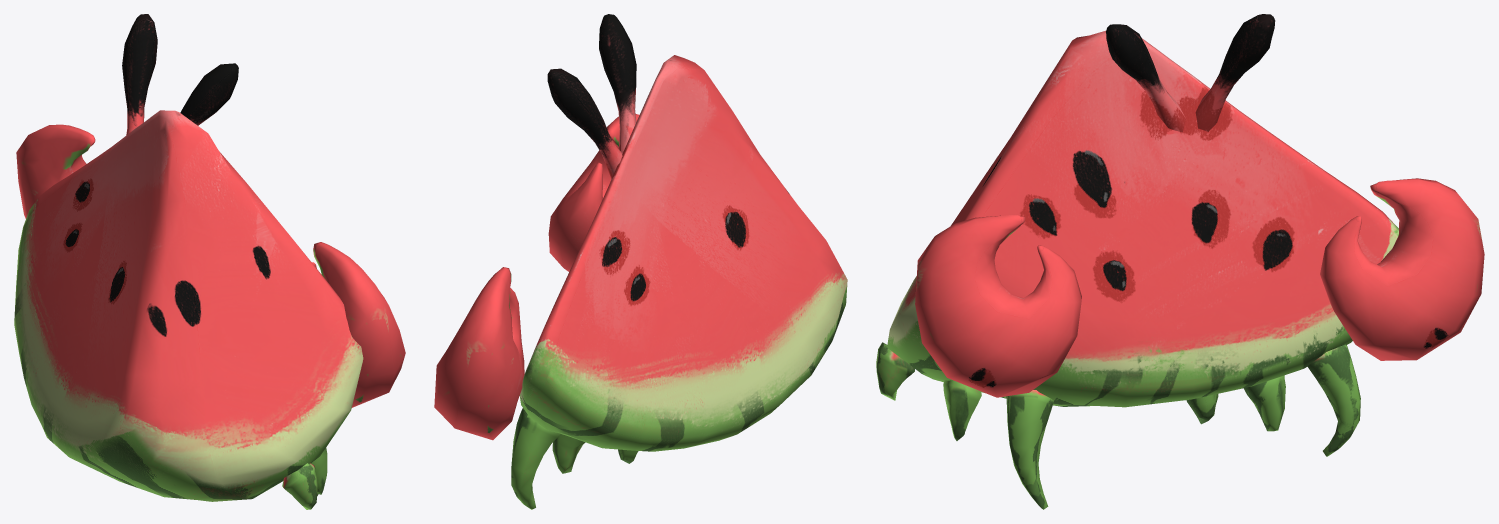
The model's file is crabmelon.glb.
3 views of the same model, side by side, from view 1: azimuth 30°, elevation 25°; view 2: azimuth 150°, elevation 25°; view 3: azimuth 270°, elevation 25° (orthographic). The views are drawn at different scales.
Visible parts, largest first — view 1: Object_2; view 2: Object_2; view 3: Object_2.
Boxes of the visible parts, bbox=[...] form: Object_2: bbox=[14, 14, 405, 509]; Object_2: bbox=[434, 14, 847, 509]; Object_2: bbox=[876, 14, 1484, 509].
Size of the model in its own units: 1 by 1.49 by 1.77.
1 material, 1 textured.
